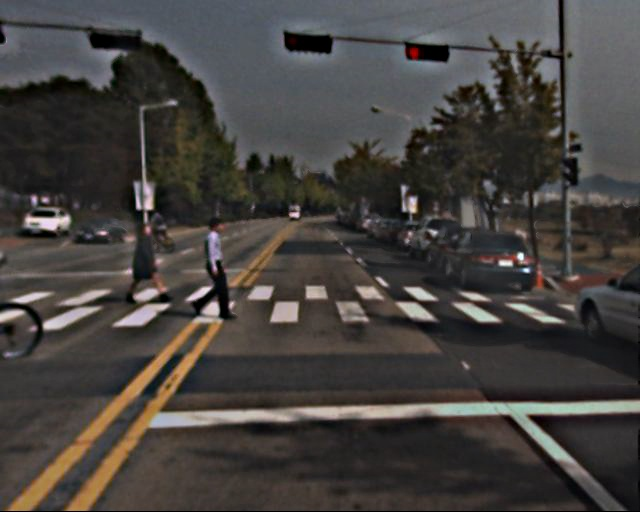person: (196, 215, 235, 315), (128, 218, 165, 307)
